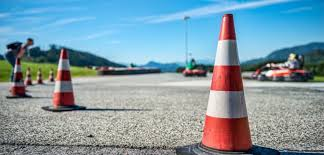cones: (179, 14, 276, 155), (46, 49, 90, 114), (2, 61, 31, 100)
